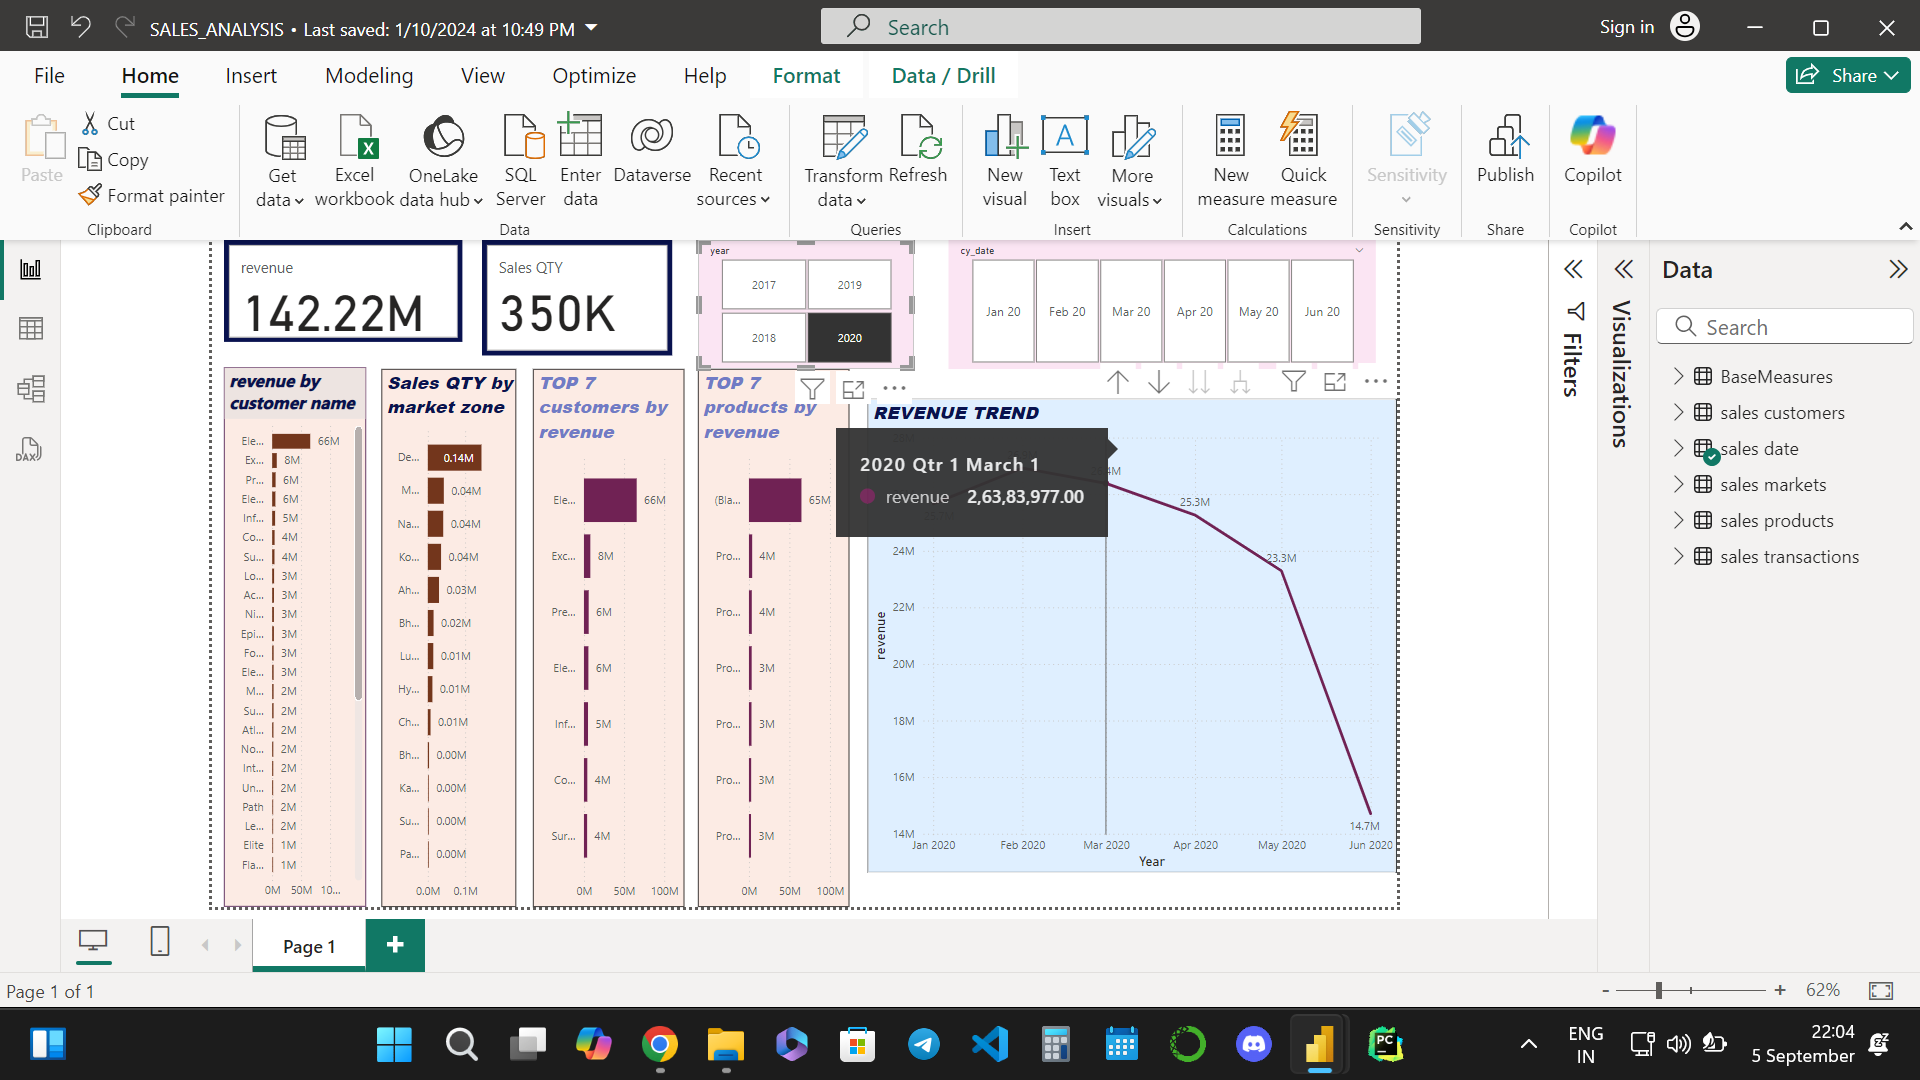

The dashboard page shown, as its layout file describes it:
{"tool":"powerbi","page":{"name":"Page 1","canvas":[1280,720],"ordinal":0},"visuals":[{"type":"cardVisual","fields":{"Data":["BaseMeasures.revenue"]},"box":[12.9,0,257.3,110],"z":0},{"type":"cardVisual","fields":{"Data":["BaseMeasures.Sales QTY"]},"box":[291.2,0,205.5,124.6],"z":1000},{"type":"barChart","title":"revenue by customer name","fields":{"Y":["BaseMeasures.revenue"],"Category":["sales customers.custmer_name"]},"box":[13.3,138.3,153.3,581.7],"z":2000},{"type":"slicer","fields":{"Values":["sales date.year"]},"box":[524.2,0,233,139.1],"z":3000},{"type":"slicer","fields":{"Values":["sales date.cy_date"]},"box":[794.4,0,461.1,139.1],"z":4000},{"type":"barChart","title":"Sales QTY by market zone","fields":{"Y":["BaseMeasures.Sales QTY"],"Category":["sales markets.markets_name"]},"box":[182.8,139.1,145.6,580.9],"z":5000},{"type":"barChart","title":"TOP 7 customers by revenue","fields":{"Y":["BaseMeasures.revenue"],"Category":["sales customers.custmer_name"]},"box":[346.2,139.1,163.4,580.9],"z":6000},{"type":"barChart","title":"TOP 7 products by revenue","fields":{"Y":["BaseMeasures.revenue"],"Category":["sales products.product_code"]},"box":[524.2,139.1,163.4,580.9],"z":7000},{"type":"lineChart","title":"REVENUE TREND","fields":{"Y":["BaseMeasures.revenue"],"Category":["sales date.cy_date.Variation.Date Hierarchy.Year","sales date.cy_date.Variation.Date Hierarchy.Quarter","sales date.cy_date.Variation.Date Hierarchy.Month","sales date.cy_date.Variation.Date Hierarchy.Day"]},"box":[707.1,171.5,571.1,511.3],"z":8000}]}

Visuals, with their boxes on the page's 1280x720 design canvas (x1, y1, x2, y2). These are canvas units, not pixel positions in the 1920x1080 screenshot, which may show the page scaled, cropped or inside an application window:
cardVisual - BaseMeasures.revenue: detection(13, 0, 270, 110)
cardVisual - BaseMeasures.Sales QTY: detection(291, 0, 497, 125)
"revenue by customer name" barChart: detection(13, 138, 167, 720)
slicer - sales date.year: detection(524, 0, 757, 139)
slicer - sales date.cy_date: detection(794, 0, 1256, 139)
"Sales QTY by market zone" barChart: detection(183, 139, 328, 720)
"TOP 7 customers by revenue" barChart: detection(346, 139, 510, 720)
"TOP 7 products by revenue" barChart: detection(524, 139, 688, 720)
"REVENUE TREND" lineChart: detection(707, 172, 1278, 683)
